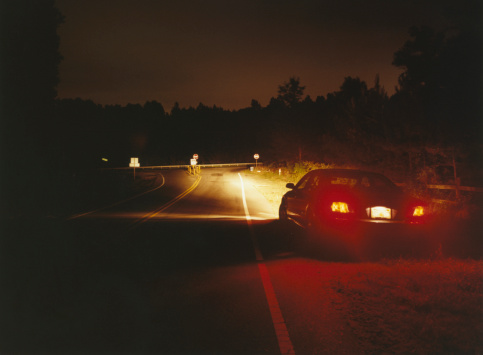car: (273, 166, 439, 258)
